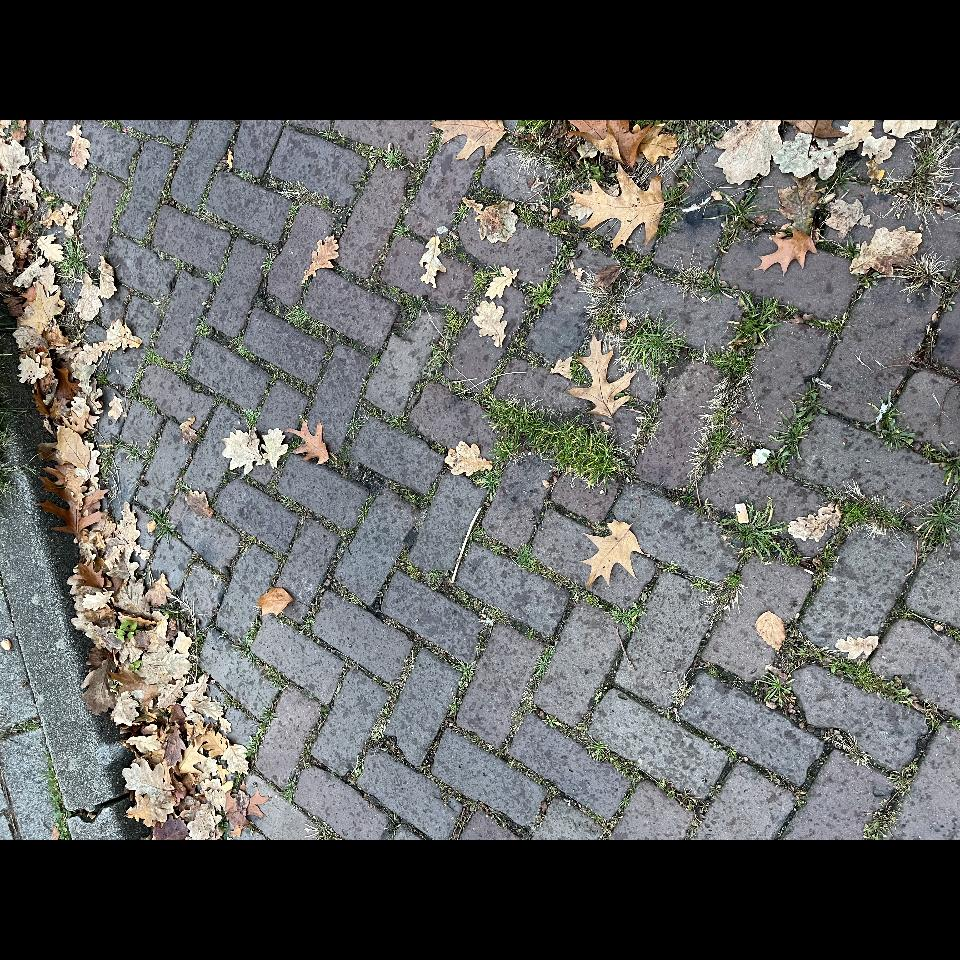weed: (335, 784, 549, 905), (357, 606, 441, 747), (43, 645, 132, 771), (525, 650, 624, 699), (371, 892, 456, 946), (280, 838, 340, 910), (464, 738, 522, 806), (160, 906, 210, 960), (132, 877, 174, 916), (115, 380, 149, 405), (358, 758, 379, 786), (620, 641, 636, 654), (91, 380, 113, 387), (150, 405, 154, 414)
